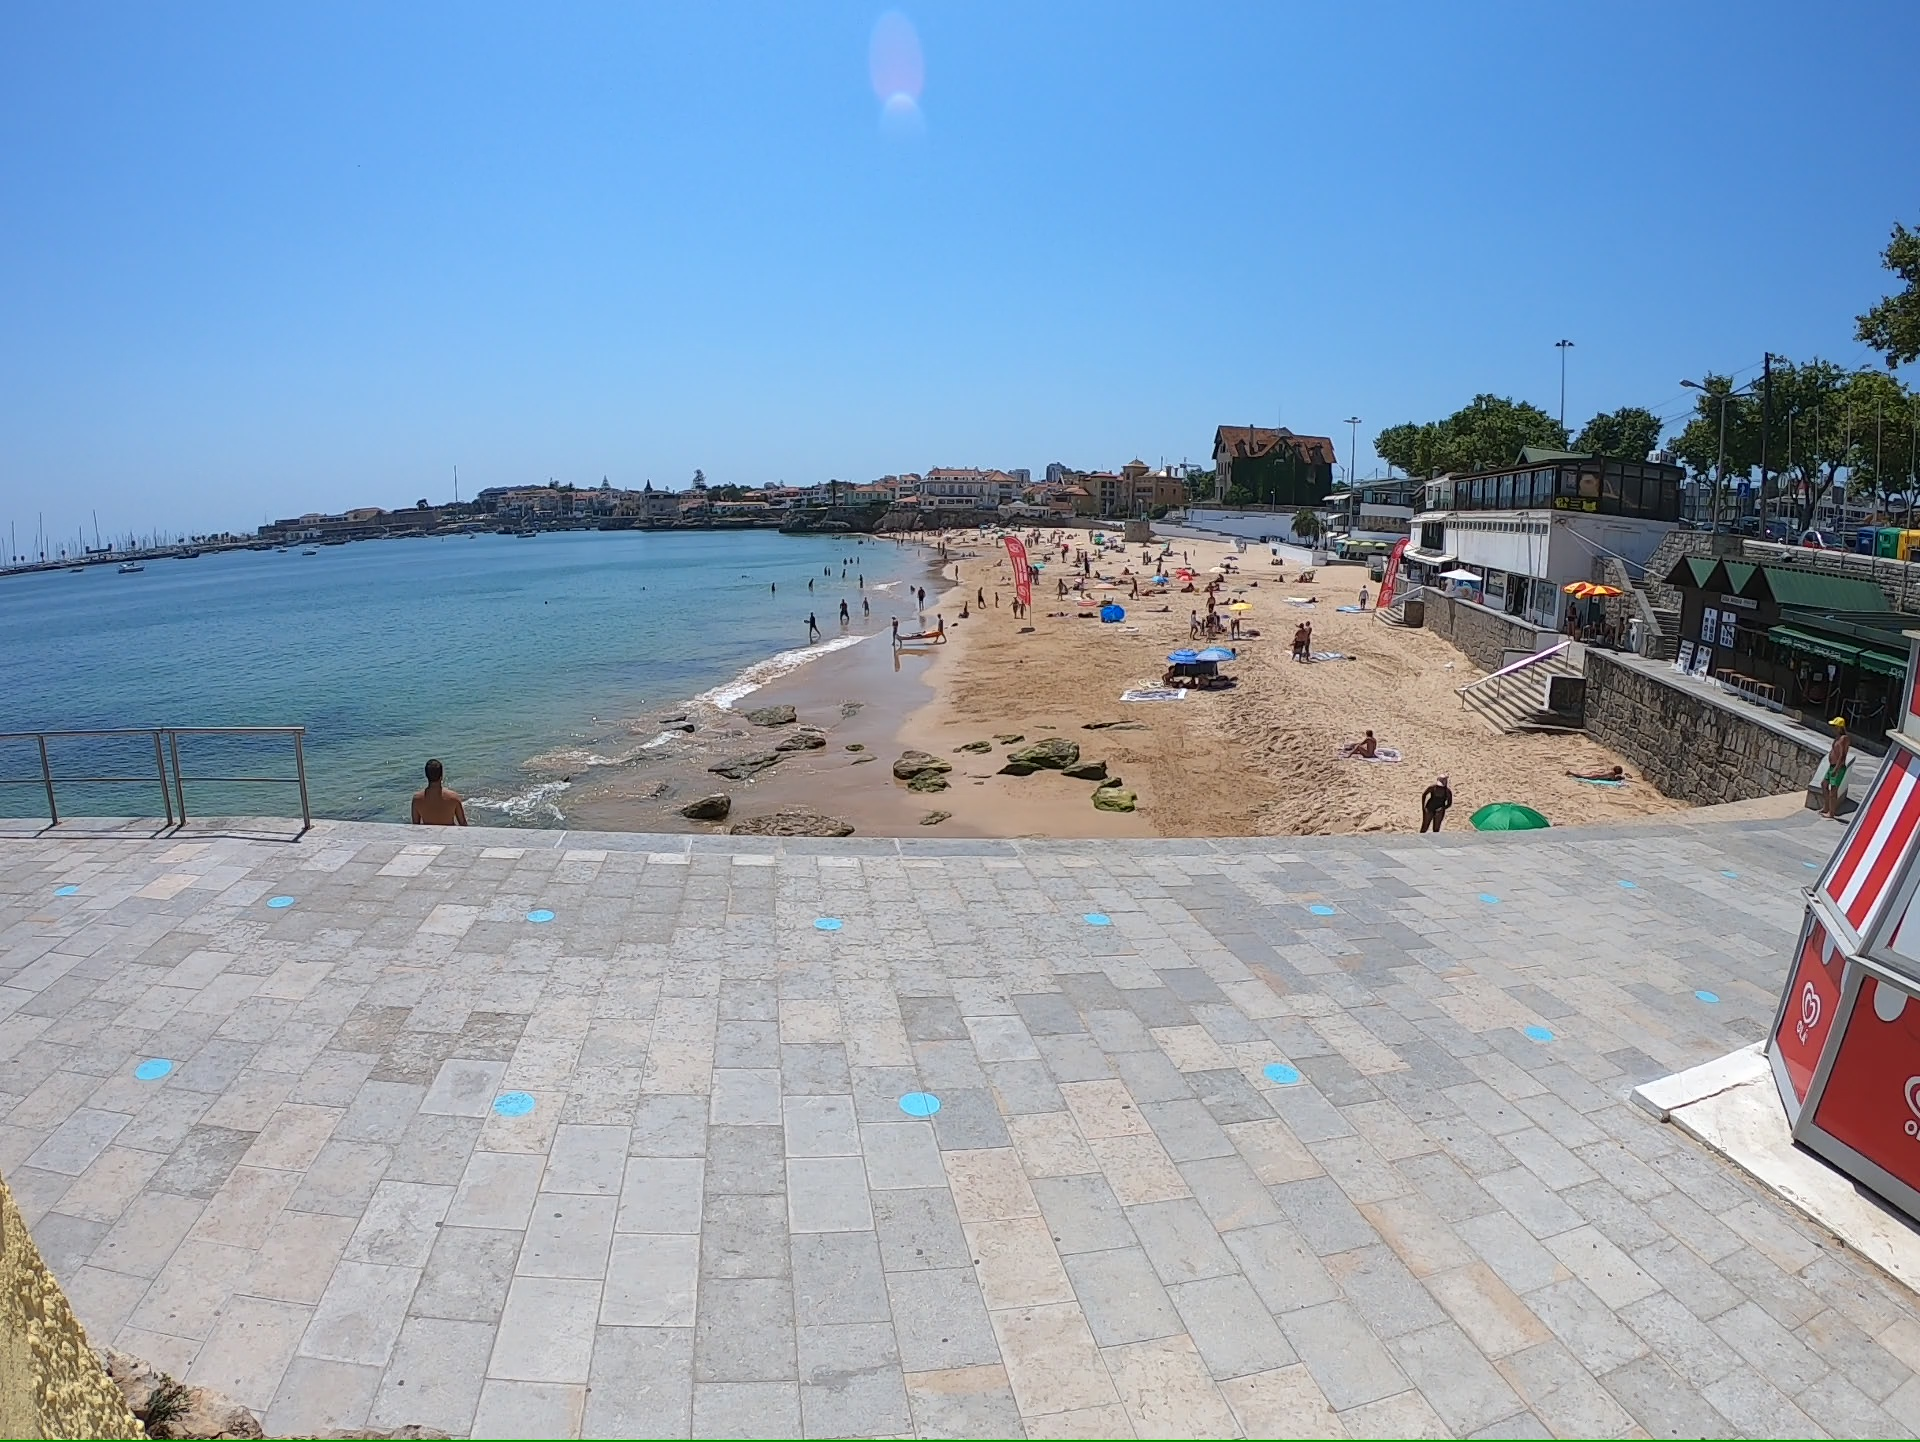person: (408, 752, 458, 827), (1819, 715, 1849, 815), (1424, 772, 1453, 814), (1360, 727, 1378, 756), (1159, 664, 1177, 687), (1294, 621, 1305, 660), (934, 613, 946, 644), (808, 611, 821, 637), (1188, 609, 1198, 639), (891, 614, 900, 643), (1229, 615, 1240, 640), (838, 597, 848, 620), (1128, 576, 1139, 599), (1357, 584, 1368, 607), (957, 600, 969, 618), (917, 585, 927, 609), (1206, 590, 1216, 611), (976, 585, 986, 607), (1056, 577, 1065, 600), (1180, 580, 1194, 593), (1011, 596, 1019, 617), (1144, 604, 1170, 611), (861, 595, 869, 615), (1019, 598, 1026, 617), (1033, 564, 1038, 584), (1026, 563, 1032, 581), (1084, 559, 1090, 577), (1218, 597, 1231, 605), (993, 591, 999, 607), (806, 576, 814, 586), (1213, 573, 1224, 581), (1060, 546, 1065, 562), (1183, 551, 1188, 564), (859, 572, 863, 588), (954, 564, 958, 579), (1042, 552, 1048, 562), (1191, 568, 1200, 576), (1122, 566, 1129, 574), (995, 559, 1002, 566), (1157, 560, 1162, 572), (1097, 547, 1101, 558), (1250, 580, 1257, 587), (1094, 569, 1100, 577), (770, 582, 775, 591), (841, 568, 845, 577), (1278, 573, 1282, 582), (1034, 535, 1038, 544), (909, 584, 915, 591), (1076, 548, 1080, 561), (1142, 551, 1145, 563), (827, 568, 831, 575), (1208, 581, 1213, 589), (1299, 574, 1303, 582), (1066, 534, 1073, 539), (1243, 540, 1246, 552), (1049, 532, 1052, 542), (823, 566, 827, 576), (1278, 557, 1282, 564), (1163, 569, 1168, 576), (1157, 554, 1162, 560), (995, 537, 998, 547), (1027, 537, 1030, 547), (1089, 531, 1092, 541), (970, 536, 977, 541), (917, 548, 920, 557), (843, 558, 846, 565), (849, 556, 853, 564), (937, 541, 940, 548), (920, 533, 923, 541), (1270, 558, 1274, 565), (1024, 537, 1027, 546), (1030, 538, 1033, 546), (1057, 535, 1060, 543), (942, 541, 944, 553), (900, 537, 903, 544), (912, 535, 915, 541), (1146, 550, 1148, 562), (980, 528, 982, 535), (972, 551, 975, 556), (933, 530, 936, 535), (962, 537, 965, 542), (968, 551, 971, 556), (857, 556, 859, 564), (937, 529, 939, 536), (867, 536, 869, 542), (1275, 558, 1277, 564), (902, 531, 904, 536)
